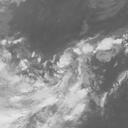cyclone: (16, 50, 93, 109)
